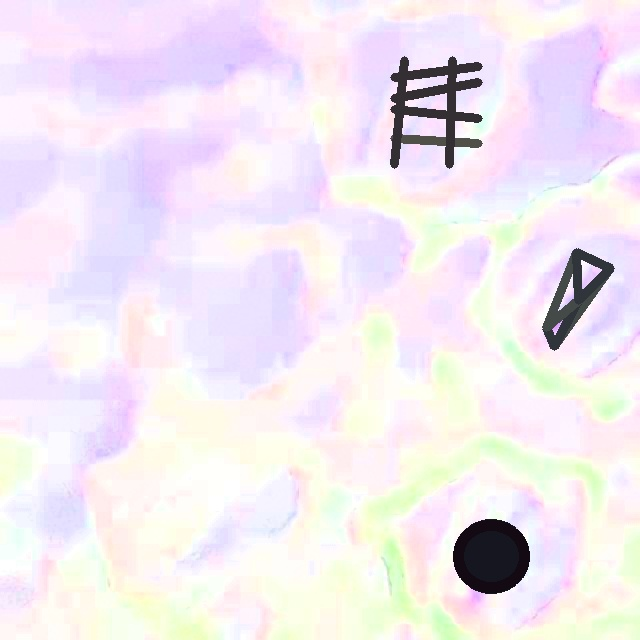open: (390, 57, 482, 168), (542, 249, 613, 350), (453, 519, 529, 593)
